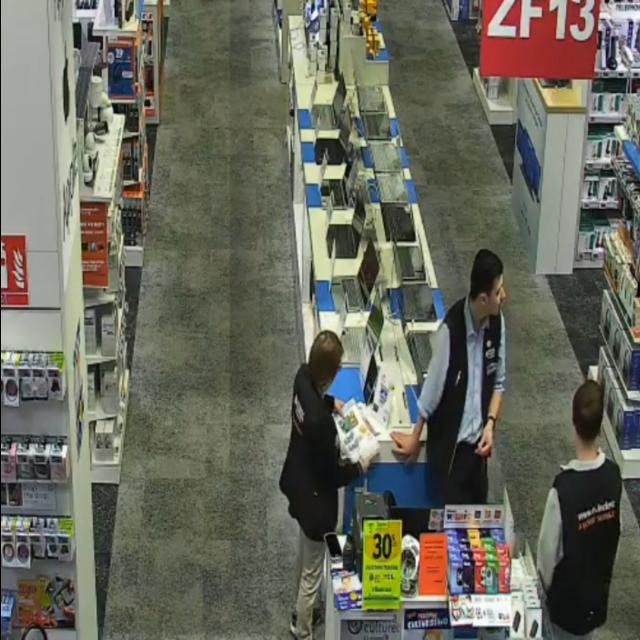hands: (392, 431, 419, 461), (477, 421, 493, 456), (360, 458, 373, 473), (334, 399, 344, 415)
person: (393, 249, 505, 504), (280, 331, 367, 639), (538, 381, 622, 639)
